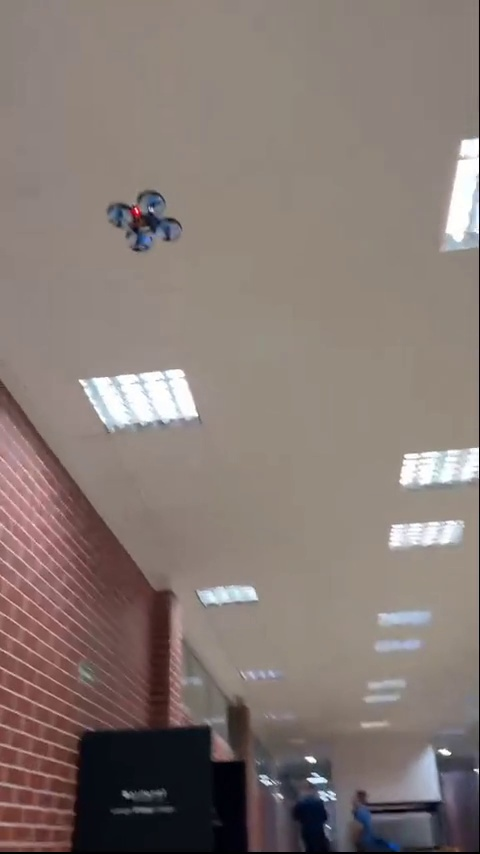drone: (104, 192, 188, 252)
